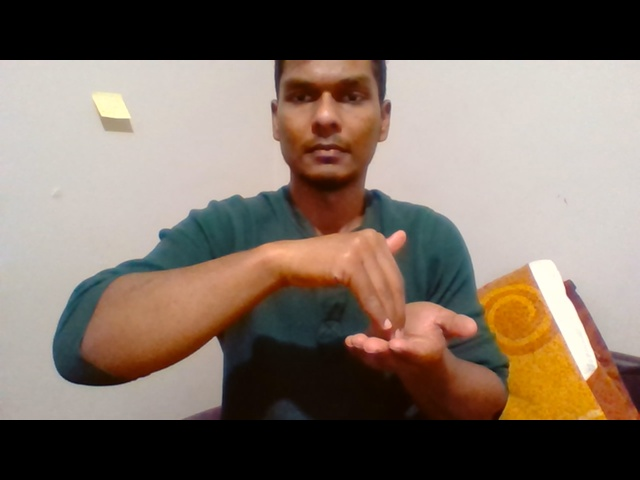ExcuseMe: (265, 225, 482, 379)
